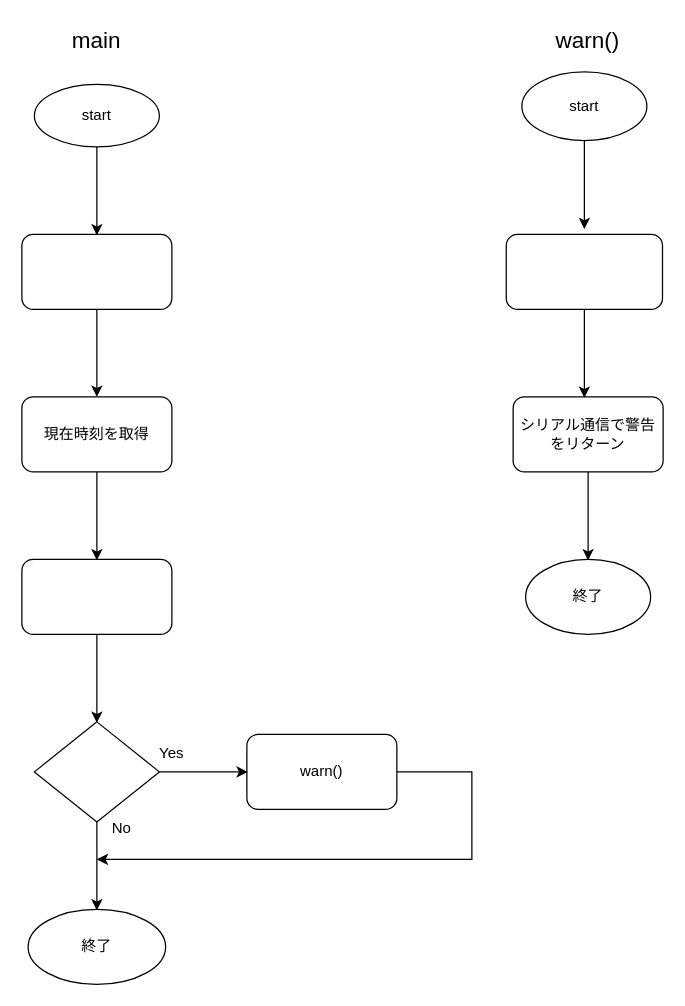
The diagram is 685 pixels wide and 1006 high, and some of its shapes have lost their labels. Each missing label, with the centre of its shape:
"1時間おきに実行" belongs at point 96,271.
"n人以上？" belongs at point 96,771.
"データベースからデータを時刻の配列に格納" belongs at point 96,596.
"時刻に対する警告カウント++" belongs at point 583,271.
